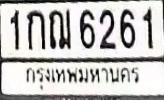1: (142, 8, 152, 48), (10, 9, 19, 50)
2: (98, 9, 115, 48)
6: (119, 8, 135, 47), (79, 9, 94, 48)
A01: (26, 9, 44, 49)
A12: (48, 9, 70, 48)
BKK: (23, 64, 142, 93)
